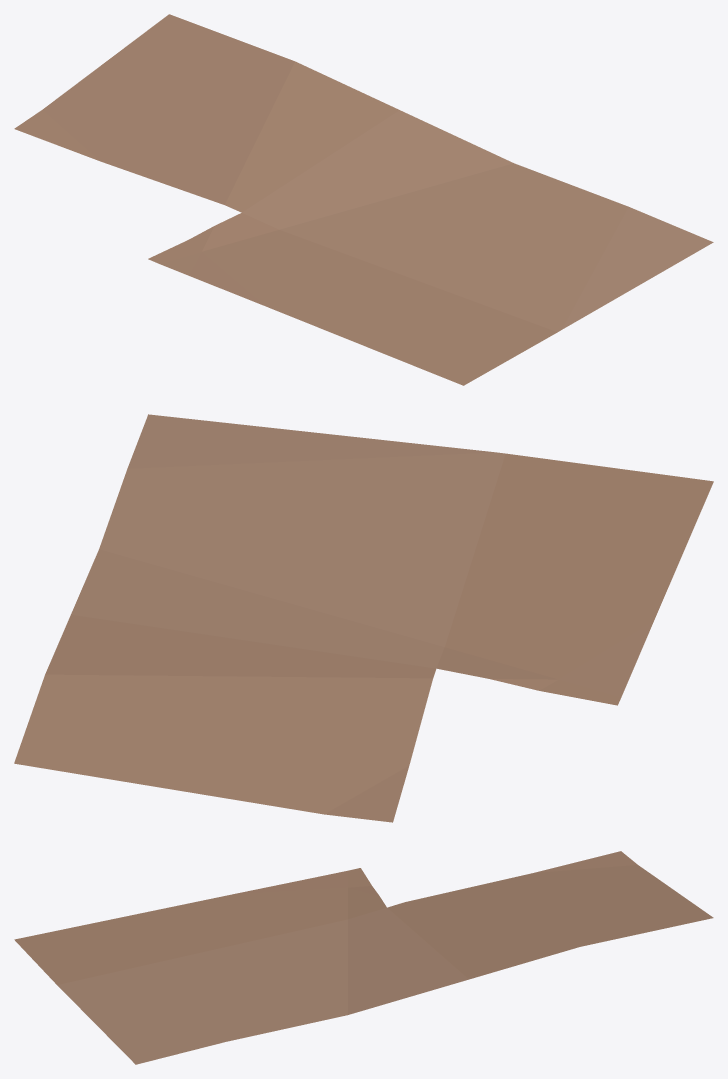
Rendered from farm_-32_-37_soil.glb.
The picture shows the model from 3 angles, top to bottom: view 1: azimuth 30°, elevation 25°; view 2: azimuth 150°, elevation 25°; view 3: azimuth 270°, elevation 25°; orthographic projection. The views are drawn at different scales.
Visible parts, largest first — view 1: geometry_0; view 2: geometry_0; view 3: geometry_0.
Part boxes in pixels (x1,y1,x2,y2): geometry_0: (14,14,713,385); geometry_0: (14,414,713,822); geometry_0: (14,851,713,1064).
Bounding box in the file's own units: 74.38 × 10.91 × 112.
